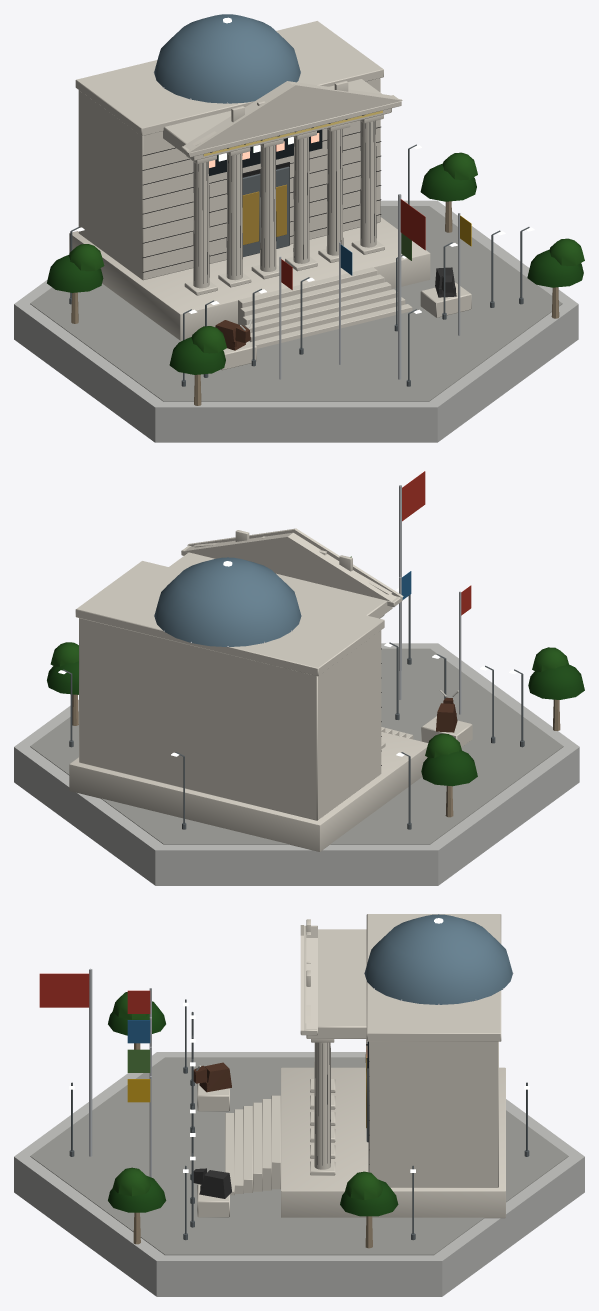
The model's file is stockExchange_us.glb.
The picture shows the model from 3 angles, top to bottom: view 1: azimuth 30°, elevation 25°; view 2: azimuth 150°, elevation 25°; view 3: azimuth 270°, elevation 25°; orthographic projection.
Visible parts, largest first — view 1: stone, pavers, wall_concrete, glass, leaf, dark, paint, steel_dark, gold, metal, wood; view 2: stone, wall_concrete, pavers, glass, leaf, paint, steel_dark, metal, wood; view 3: stone, pavers, wall_concrete, glass, paint, leaf, steel_dark, metal, dark, wood.
Part boxes in pixels (x1,y1,x2,y2): stone: (69,21,471,370); pavers: (30,206,562,401); wall_concrete: (14,200,578,442); glass: (154,14,300,103); leaf: (47,152,584,374); dark: (142,115,381,283); paint: (209,129,471,350); steel_dark: (69,144,529,386); gold: (203,110,382,245); metal: (153,72,460,379); wood: (71,201,559,405); stone: (69,528,472,851); wall_concrete: (14,643,579,885); pavers: (30,648,563,844); glass: (154,557,301,646); leaf: (47,642,584,786); paint: (350,471,471,732); steel_dark: (63,594,524,829); metal: (154,485,461,714); wood: (72,694,560,817); stone: (197,914,505,1218); pavers: (30,1057,568,1255); wall_concrete: (14,1052,584,1296); glass: (364,914,512,1004); paint: (39,973,368,1198); leaf: (108,992,398,1216); steel_dark: (69,999,529,1240); metal: (89,968,513,1177); dark: (315,1042,369,1171); wood: (133,1039,372,1248).
Bounding box in the file's own units: 21.31 × 12.95 × 24.6.
